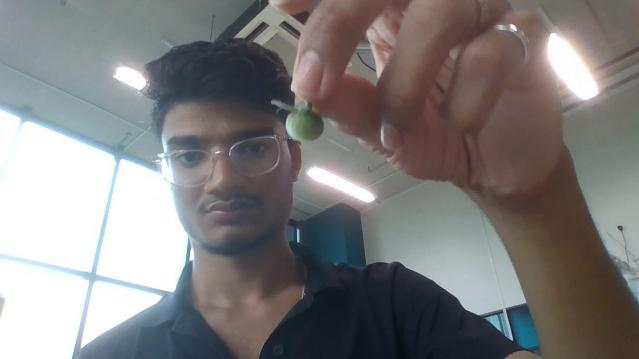Fruit Maturation: (284, 106, 324, 144)
